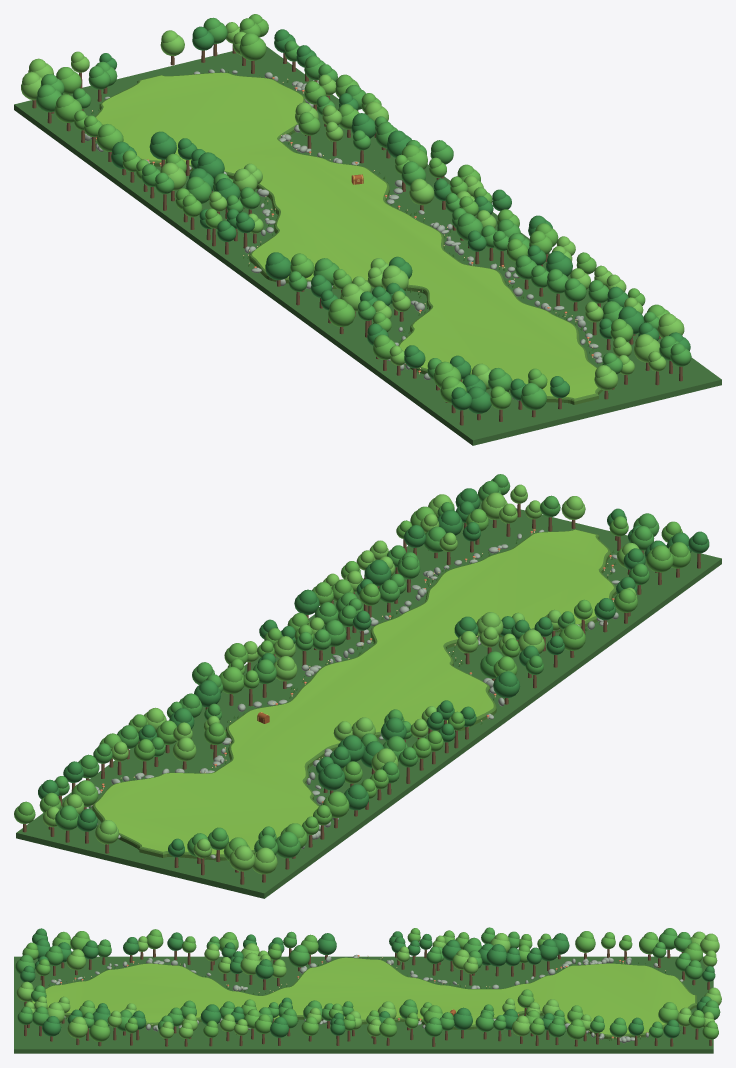
File: forest-level.glb
3 renders of one model, top to bottom at view 1: azimuth 30°, elevation 25°; view 2: azimuth 150°, elevation 25°; view 3: azimuth 270°, elevation 25°, orthographic. The views are drawn at different scales.
Parts seen in each view (by area): view 1: Continuous walkable meadow, Forest floor; view 2: Continuous walkable meadow, Forest floor; view 3: Forest floor, Continuous walkable meadow, Canopy 2 37, Canopy 1 26, Canopy 0 10, Canopy 3 36, Canopy 2 7, Canopy 0 12, Canopy 0 5, Canopy 0 21, Canopy 3 24, Canopy 3 35 (+8 smaller).
Part boxes in pixels (<box>): Continuous walkable meadow: <box>95,72,603,404</box>; Forest floor: <box>14,46,721,445</box>; Continuous walkable meadow: <box>92,529,616,860</box>; Forest floor: <box>16,501,721,898</box>; Forest floor: <box>14,956,713,1053</box>; Continuous walkable meadow: <box>30,957,696,1039</box>; Canopy 2 37: <box>89,1024,110,1041</box>; Canopy 1 26: <box>289,950,309,967</box>; Canopy 0 10: <box>486,949,506,966</box>; Canopy 3 36: <box>67,1021,87,1038</box>; Canopy 2 7: <box>575,936,595,952</box>; Canopy 0 12: <box>453,1012,472,1029</box>; Canopy 0 5: <box>538,944,558,961</box>; Canopy 0 21: <box>317,938,336,954</box>; Canopy 3 24: <box>240,957,260,974</box>; Canopy 3 35: <box>66,954,85,970</box>.
Size of the model in its own units: 49.27 by 8.49 by 152.
